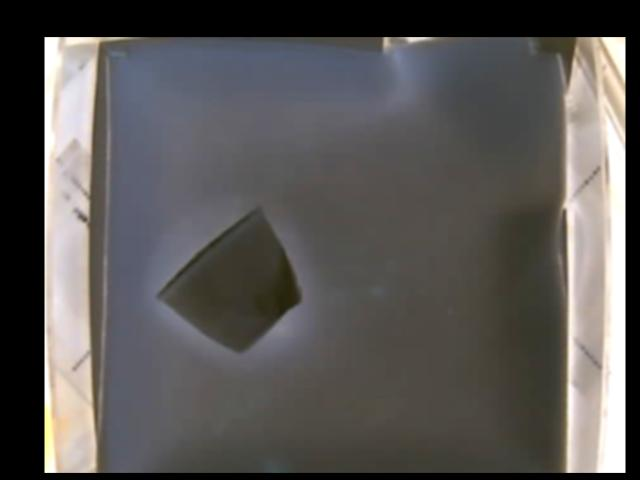Cup: (154, 202, 305, 352)
